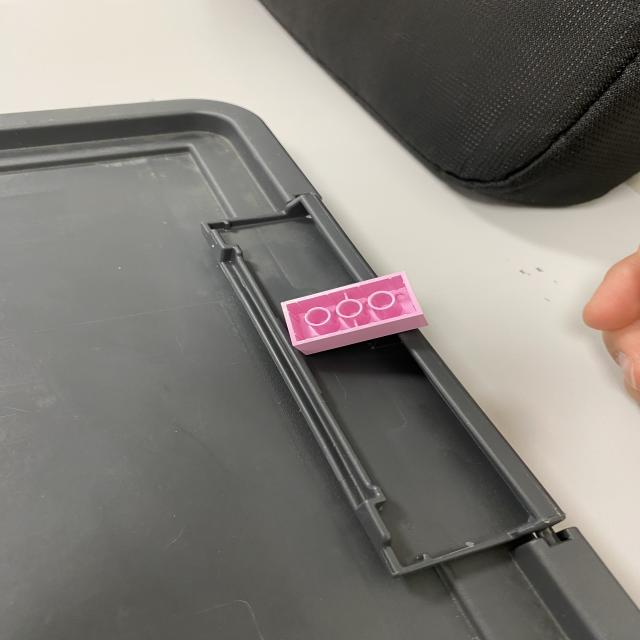C4x2x1: (284, 273, 421, 344), (294, 313, 431, 356)
